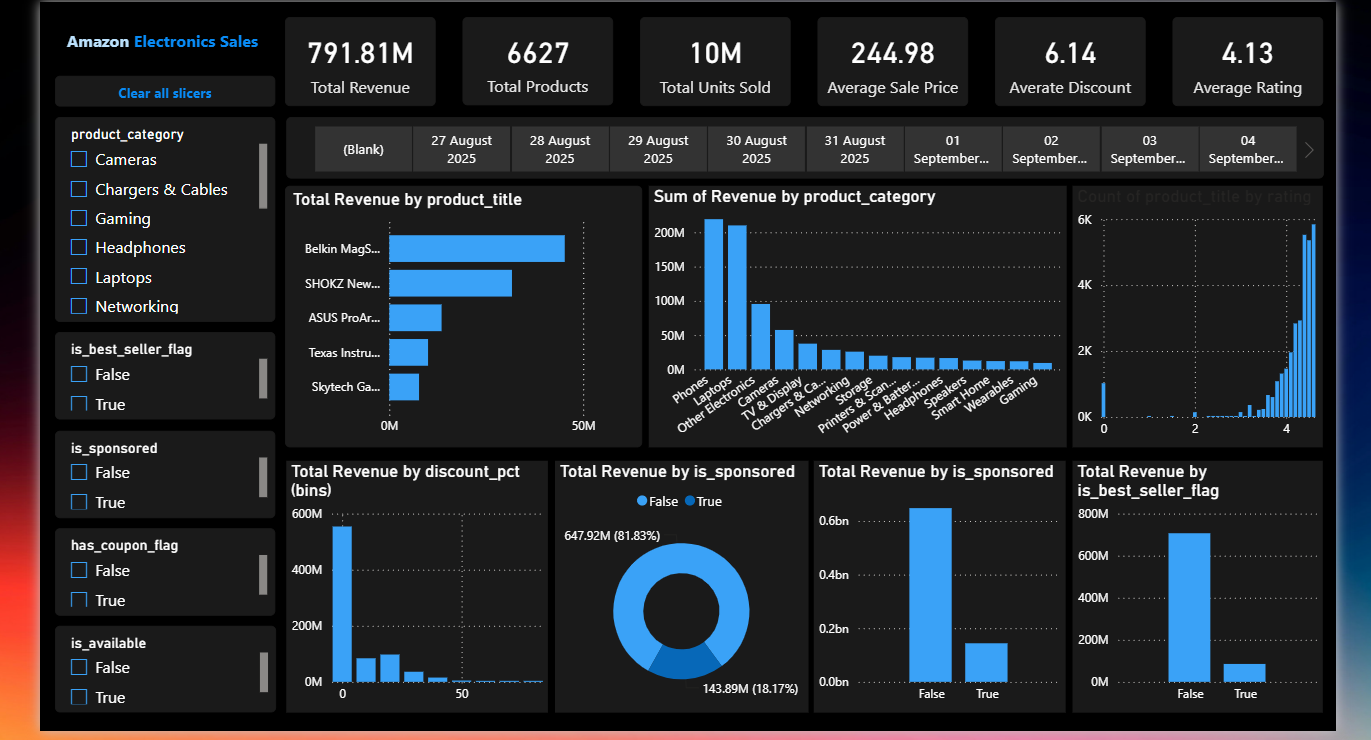

This screenshot's page, from the dashboard's own definition file:
{"tool":"powerbi","page":{"name":"Amazon Sales","canvas":[1280,720],"ordinal":0},"visuals":[{"type":"card","fields":{"Values":["Amazon Electronics Sales and Customer Engagement Dataset (Cleaned).Total Revenue"]},"box":[242.2,14.7,148.9,87.8],"z":0},{"type":"card","fields":{"Values":["Amazon Electronics Sales and Customer Engagement Dataset (Cleaned).Total Units Sold"]},"box":[592.9,14.7,148.9,87.8],"z":1000},{"type":"card","fields":{"Values":["Amazon Electronics Sales and Customer Engagement Dataset (Cleaned).Total Products"]},"box":[417.6,14.8,148.9,87.5],"z":2000},{"type":"card","fields":{"Values":["Amazon Electronics Sales and Customer Engagement Dataset (Cleaned).Average Rating"]},"box":[1118.9,14.7,148.9,87.8],"z":3000},{"type":"card","fields":{"Values":["Amazon Electronics Sales and Customer Engagement Dataset (Cleaned).Averate Discount"]},"box":[943.6,14.7,148.9,87.8],"z":4000},{"type":"card","fields":{"Values":["Amazon Electronics Sales and Customer Engagement Dataset (Cleaned).Average Sale Price"]},"box":[768.2,14.7,148.9,87.8],"z":5000},{"type":"clusteredColumnChart","fields":{"Category":["Amazon Electronics Sales and Customer Engagement Dataset (Cleaned).product_category"],"Y":["Sum(Amazon Electronics Sales and Customer Engagement Dataset (Cleaned).Revenue)"]},"box":[600.7,181.4,412.9,258.6],"z":6000},{"type":"barChart","fields":{"Category":["Amazon Electronics Sales and Customer Engagement Dataset (Cleaned).product_title"],"Y":["Amazon Electronics Sales and Customer Engagement Dataset (Cleaned).Total Revenue"]},"box":[241.4,181.4,352.9,258.6],"z":7000},{"type":"clusteredColumnChart","fields":{"Category":["Amazon Electronics Sales and Customer Engagement Dataset (Cleaned).rating"],"Y":["CountNonNull(Amazon Electronics Sales and Customer Engagement Dataset (Cleaned).product_title)"]},"box":[1020,181.4,247.1,258.6],"z":8000},{"type":"clusteredColumnChart","fields":{"Y":["Amazon Electronics Sales and Customer Engagement Dataset (Cleaned).Total Revenue"],"Category":["Amazon Electronics Sales and Customer Engagement Dataset (Cleaned).is_best_seller_flag"]},"box":[1020,452.9,247.1,248.6],"z":9000},{"type":"clusteredColumnChart","fields":{"Category":["Amazon Electronics Sales and Customer Engagement Dataset (Cleaned).is_sponsored"],"Y":["Amazon Electronics Sales and Customer Engagement Dataset (Cleaned).Total Revenue"]},"box":[764.8,452.9,248.6,248.6],"z":10000},{"type":"donutChart","fields":{"Y":["Amazon Electronics Sales and Customer Engagement Dataset (Cleaned).Total Revenue"],"Category":["Amazon Electronics Sales and Customer Engagement Dataset (Cleaned).is_sponsored"]},"box":[508.1,452.9,250,248.6],"z":11000},{"type":"clusteredColumnChart","fields":{"Y":["Amazon Electronics Sales and Customer Engagement Dataset (Cleaned).Total Revenue"],"Category":["Amazon Electronics Sales and Customer Engagement Dataset (Cleaned).discount_pct (bins)"]},"box":[242.9,452.9,258.6,248.6],"z":12000},{"type":"slicer","fields":{"Values":["Amazon Electronics Sales and Customer Engagement Dataset (Cleaned).product_category"]},"box":[15,113.8,217.5,202.5],"z":13000},{"type":"slicer","fields":{"Values":["Amazon Electronics Sales and Customer Engagement Dataset (Cleaned).is_best_seller_flag"]},"box":[15.4,326.5,217.7,86.2],"z":14000},{"type":"slicer","fields":{"Values":["Amazon Electronics Sales and Customer Engagement Dataset (Cleaned).is_sponsored"]},"box":[15.4,422.9,217.7,86.2],"z":15000},{"type":"slicer","fields":{"Values":["Amazon Electronics Sales and Customer Engagement Dataset (Cleaned).has_coupon_flag"]},"box":[15.4,519.3,217.7,86.2],"z":16000},{"type":"slicer","fields":{"Values":["Amazon Electronics Sales and Customer Engagement Dataset (Cleaned).is_available"]},"box":[14.3,615.7,218.6,85.7],"z":17000},{"type":"actionButton","box":[15,72.5,217.5,30],"z":18000},{"type":"textbox","box":[14.4,22.5,212.5,36.2],"z":19000},{"type":"slicer","fields":{"Values":["Amazon Electronics Sales and Customer Engagement Dataset (Cleaned).delivery_date"]},"box":[242.8,113.9,1024.4,61.1],"z":20000}]}

Visuals, with their boxes on the page's 1280x720 design canvas (x1, y1, x2, y2). These are canvas units, not pixel positions in the 1371x740 screenshot, which may show the page scaled, cropped or inside an application window:
card - Amazon Electronics Sales and Customer Engagement Dataset (Cleaned).Total Revenue: locate(242, 15, 391, 102)
card - Amazon Electronics Sales and Customer Engagement Dataset (Cleaned).Total Units Sold: locate(593, 15, 742, 102)
card - Amazon Electronics Sales and Customer Engagement Dataset (Cleaned).Total Products: locate(418, 15, 566, 102)
card - Amazon Electronics Sales and Customer Engagement Dataset (Cleaned).Average Rating: locate(1119, 15, 1268, 102)
card - Amazon Electronics Sales and Customer Engagement Dataset (Cleaned).Averate Discount: locate(944, 15, 1092, 102)
card - Amazon Electronics Sales and Customer Engagement Dataset (Cleaned).Average Sale Price: locate(768, 15, 917, 102)
clusteredColumnChart - Amazon Electronics Sales and Customer Engagement Dataset (Cleaned).product_category x Sum(Amazon Electronics Sales and Customer Engagement Dataset (Cleaned).Revenue): locate(601, 181, 1014, 440)
barChart - Amazon Electronics Sales and Customer Engagement Dataset (Cleaned).product_title x Amazon Electronics Sales and Customer Engagement Dataset (Cleaned).Total Revenue: locate(241, 181, 594, 440)
clusteredColumnChart - Amazon Electronics Sales and Customer Engagement Dataset (Cleaned).rating x CountNonNull(Amazon Electronics Sales and Customer Engagement Dataset (Cleaned).product_title): locate(1020, 181, 1267, 440)
clusteredColumnChart - Amazon Electronics Sales and Customer Engagement Dataset (Cleaned).Total Revenue x Amazon Electronics Sales and Customer Engagement Dataset (Cleaned).is_best_seller_flag: locate(1020, 453, 1267, 702)
clusteredColumnChart - Amazon Electronics Sales and Customer Engagement Dataset (Cleaned).is_sponsored x Amazon Electronics Sales and Customer Engagement Dataset (Cleaned).Total Revenue: locate(765, 453, 1013, 702)
donutChart - Amazon Electronics Sales and Customer Engagement Dataset (Cleaned).Total Revenue x Amazon Electronics Sales and Customer Engagement Dataset (Cleaned).is_sponsored: locate(508, 453, 758, 702)
clusteredColumnChart - Amazon Electronics Sales and Customer Engagement Dataset (Cleaned).Total Revenue x Amazon Electronics Sales and Customer Engagement Dataset (Cleaned).discount_pct (bins): locate(243, 453, 502, 702)
slicer - Amazon Electronics Sales and Customer Engagement Dataset (Cleaned).product_category: locate(15, 114, 232, 316)
slicer - Amazon Electronics Sales and Customer Engagement Dataset (Cleaned).is_best_seller_flag: locate(15, 326, 233, 413)
slicer - Amazon Electronics Sales and Customer Engagement Dataset (Cleaned).is_sponsored: locate(15, 423, 233, 509)
slicer - Amazon Electronics Sales and Customer Engagement Dataset (Cleaned).has_coupon_flag: locate(15, 519, 233, 606)
slicer - Amazon Electronics Sales and Customer Engagement Dataset (Cleaned).is_available: locate(14, 616, 233, 701)
actionButton: locate(15, 72, 232, 102)
textbox: locate(14, 22, 227, 59)
slicer - Amazon Electronics Sales and Customer Engagement Dataset (Cleaned).delivery_date: locate(243, 114, 1267, 175)
